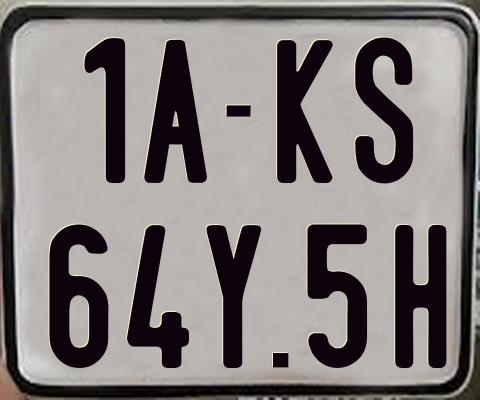1: (81, 37, 127, 185)
4: (125, 225, 192, 373)
5: (306, 222, 371, 368)
6: (48, 222, 110, 368)
A: (144, 40, 210, 185)
H: (392, 223, 447, 368)
K: (274, 39, 331, 184)
S: (353, 34, 412, 181)
Y: (206, 224, 265, 367)
